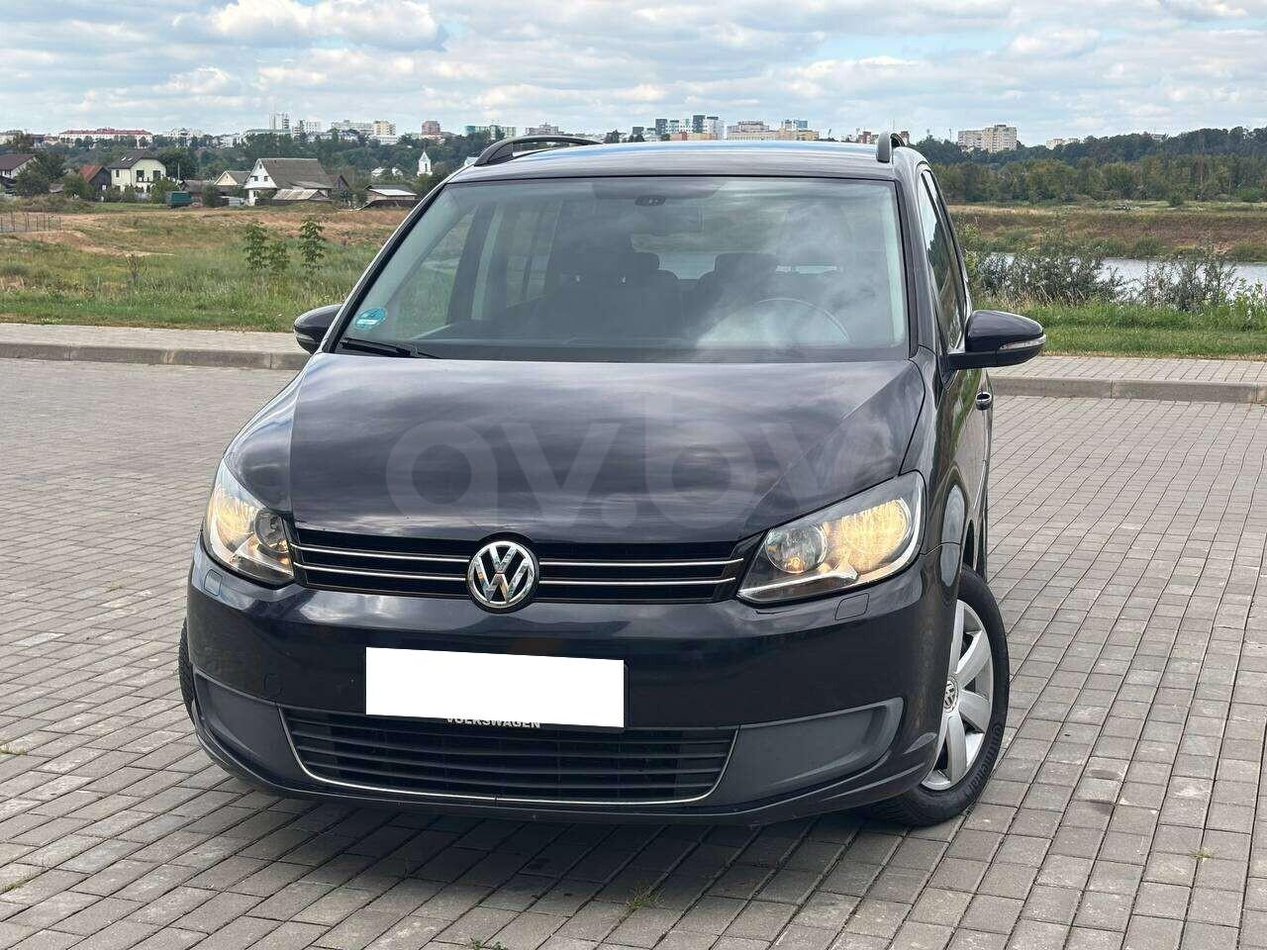Touran_2010-2015: (171, 125, 1028, 824)
